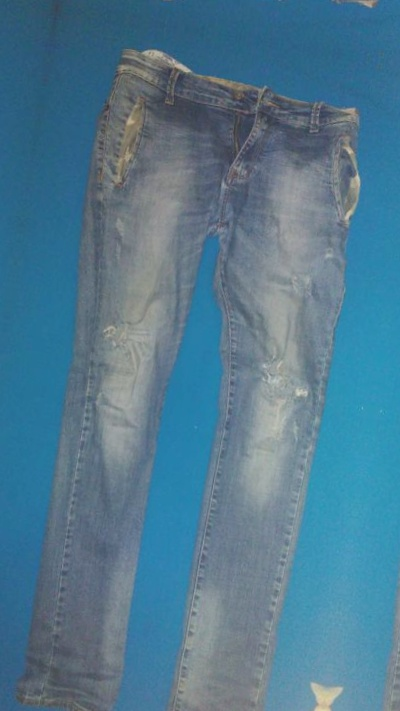Pants: (0, 31, 400, 711), (340, 91, 400, 711), (0, 0, 23, 699), (90, 0, 400, 45)
